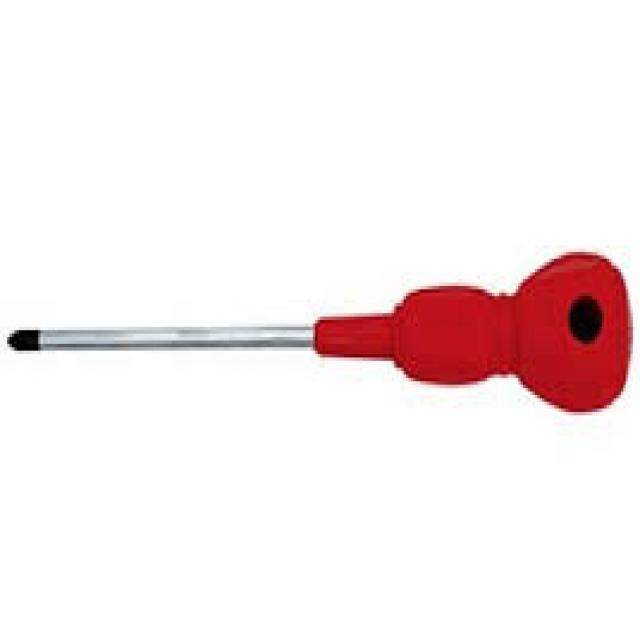screwdriver: (2, 250, 636, 417)
